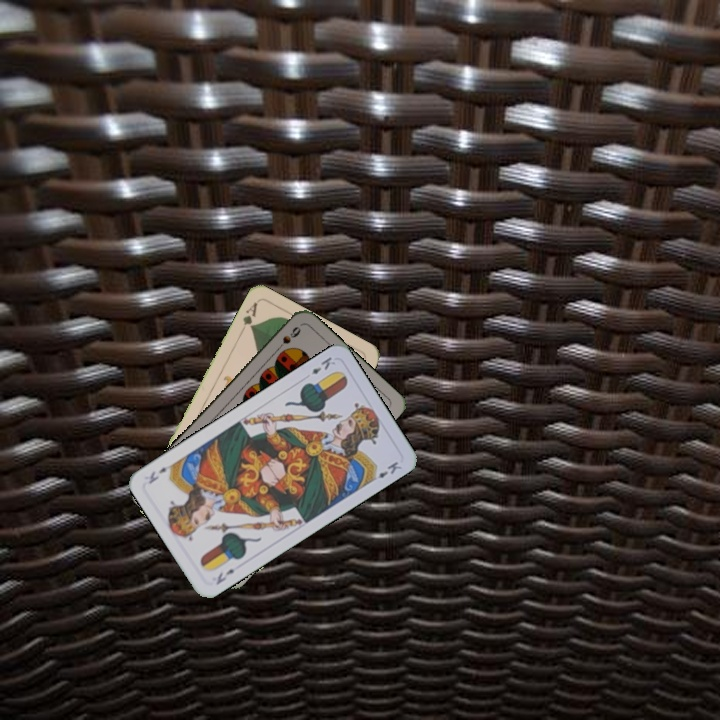EK: (307, 353, 338, 377), (212, 565, 237, 588)
GA: (236, 298, 260, 336)
S9: (271, 322, 304, 355)
